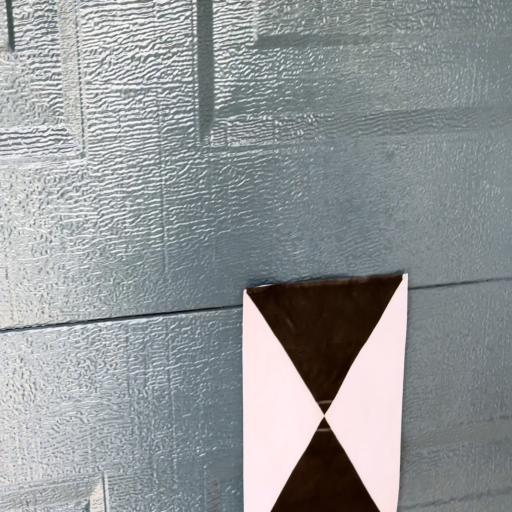target: (244, 274, 408, 511)
